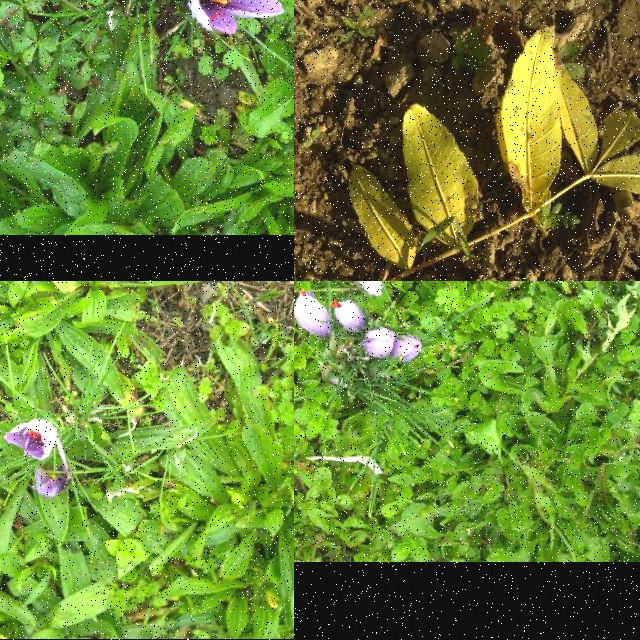flower: (190, 0, 284, 35), (2, 420, 58, 460), (294, 290, 334, 342), (332, 300, 368, 334), (364, 327, 396, 363), (392, 336, 422, 364), (350, 281, 384, 296)
